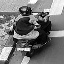motor: (9, 5, 51, 56)
